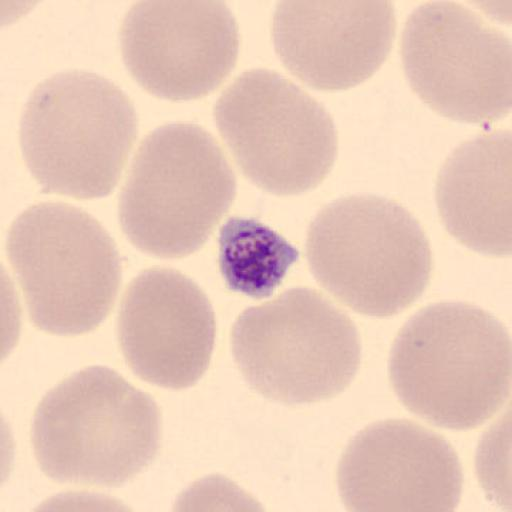Platelet: (215, 214, 301, 301)
RBC: (116, 120, 238, 262), (302, 190, 435, 319), (212, 65, 340, 199), (30, 362, 163, 490), (227, 284, 363, 409), (16, 66, 140, 202), (4, 198, 123, 339), (387, 299, 510, 433), (398, 0, 512, 127), (114, 263, 218, 393), (117, 0, 243, 104), (332, 414, 465, 512), (269, 0, 398, 93), (434, 126, 512, 259), (166, 471, 274, 512), (472, 408, 512, 512), (12, 488, 159, 512), (0, 255, 23, 367), (1, 407, 19, 494), (455, 0, 512, 27), (0, 0, 48, 31)
